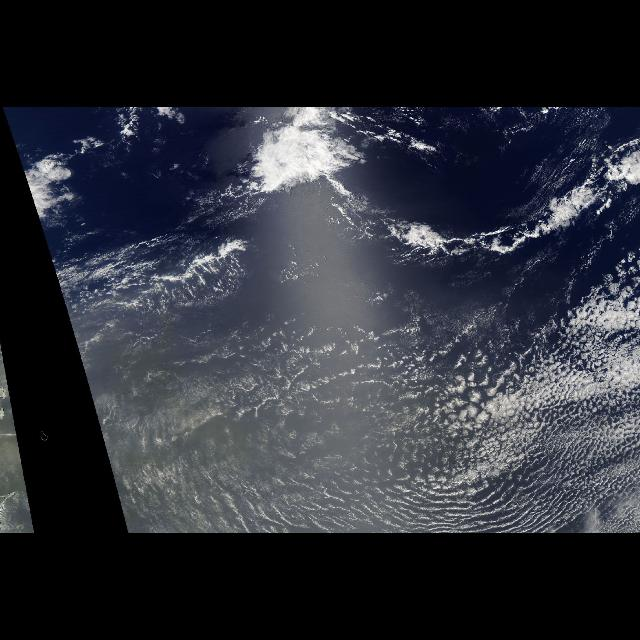Fish: (222, 116, 640, 274)
Flower: (428, 368, 496, 442)
Gravel: (215, 336, 638, 528)
Sugar: (105, 381, 598, 531)
